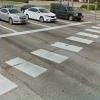Crosswalk: (11, 26, 97, 99)
